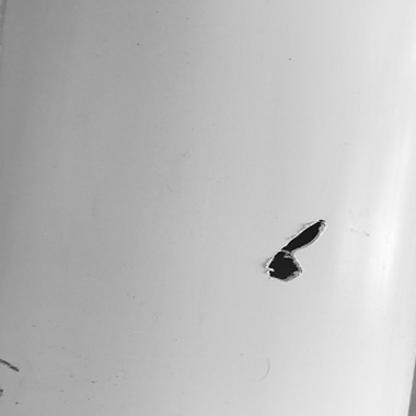fengxi: (1, 359, 22, 376)
kongdong: (266, 220, 327, 280)
